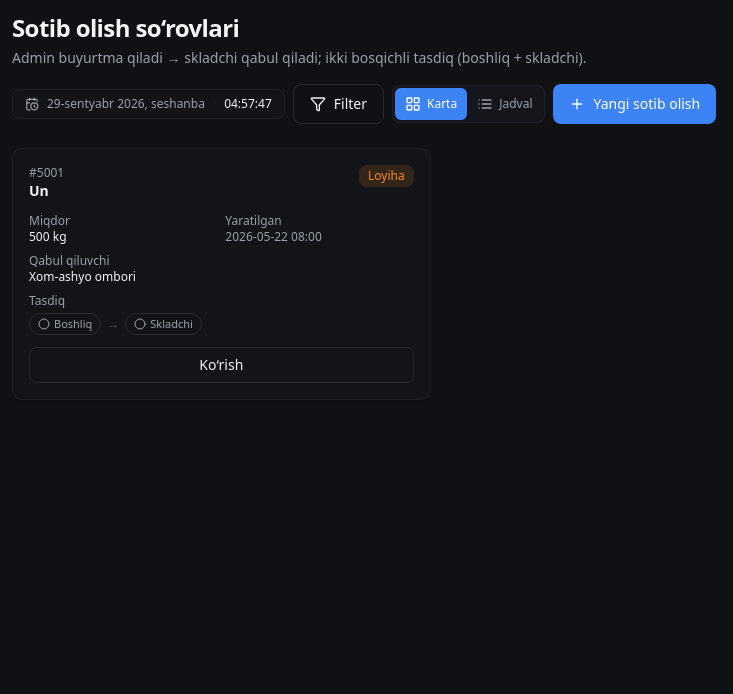
Scenario: RBAC matrix — supply_manager › hides the manager-step approve when the PO was created by someone else
Expected: the text "Un" is shown, [29,181,49,200]
Click the button "Ko‘rish". click: x=221, y=365
box: [29,347,414,383]
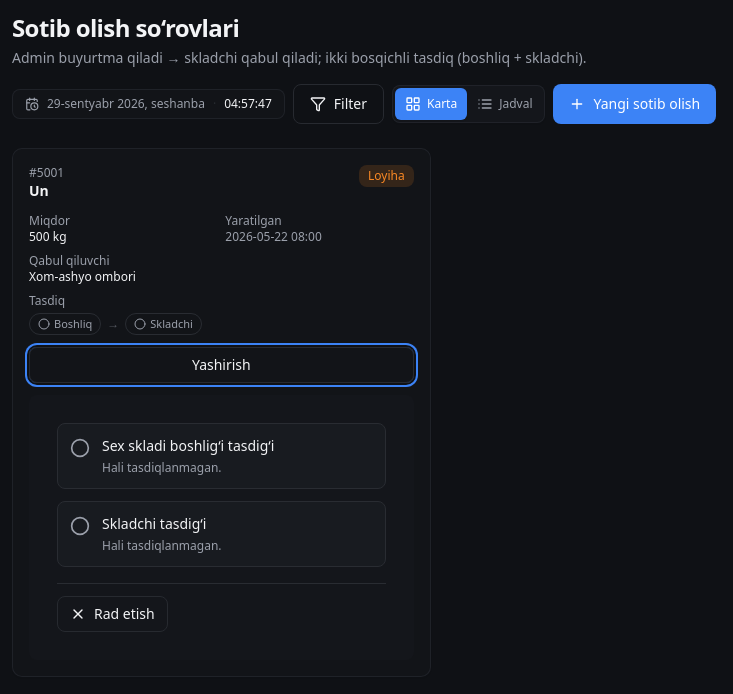
Expected: the text "Hali tasdiqlanmagan." below "Sex skladi boshlig‘i tasdig‘i" is shown, [102,459,222,476]
Expected: the button "Rad etish" is shown, [57,596,168,632]
